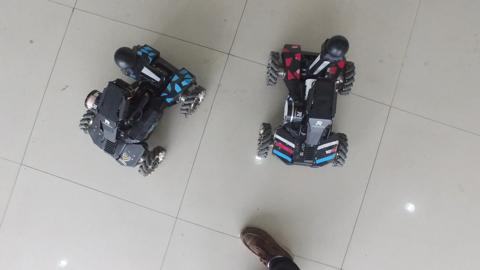chariot: (69, 37, 218, 182), (247, 29, 370, 176)
